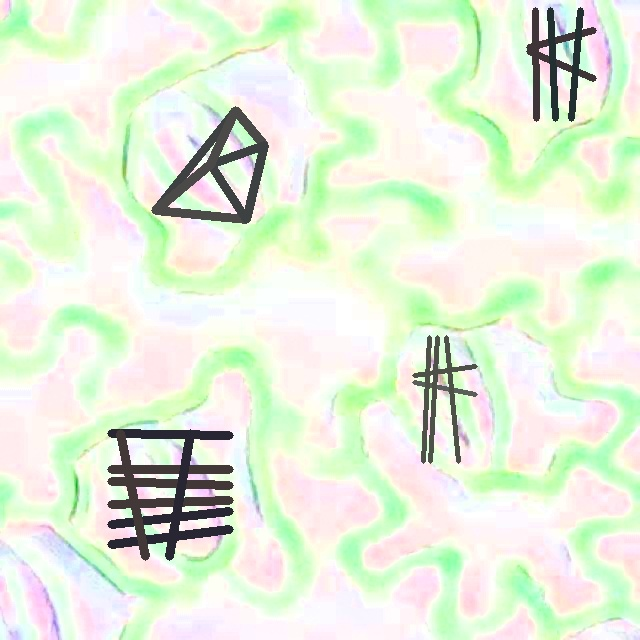close: (107, 429, 233, 560)
open: (151, 106, 268, 223), (412, 335, 477, 463), (526, 7, 596, 121)
